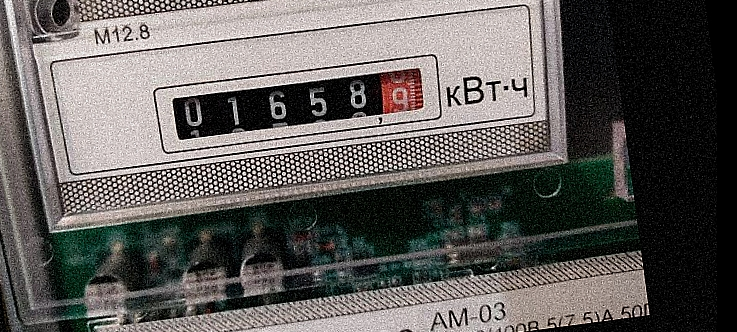0: (180, 95, 204, 127)
1: (223, 93, 244, 127)
5: (305, 84, 330, 117)
6: (265, 86, 289, 121)
8: (345, 75, 369, 110)
9: (387, 84, 411, 114)
screen: (142, 41, 450, 163)
